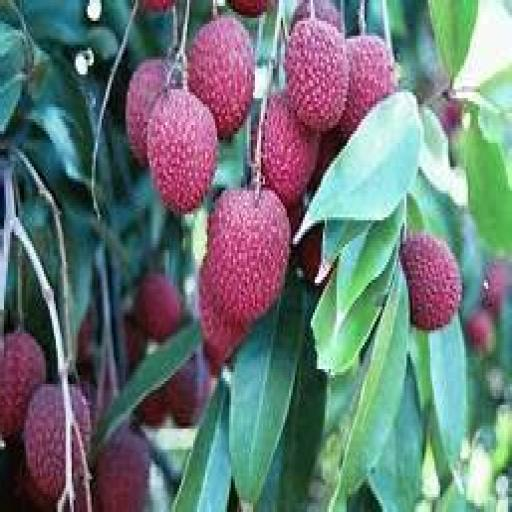lychee: (207, 188, 289, 324), (147, 90, 216, 214), (187, 15, 254, 139), (284, 18, 347, 130), (260, 93, 317, 208), (400, 233, 461, 330), (340, 36, 395, 136), (199, 265, 246, 375), (23, 384, 64, 500), (0, 331, 44, 437), (95, 429, 148, 511), (125, 60, 166, 166), (165, 352, 210, 428), (133, 271, 180, 342), (308, 128, 345, 190), (482, 262, 509, 318), (135, 384, 168, 428), (121, 316, 146, 372), (464, 310, 493, 354), (298, 227, 321, 282), (312, 0, 343, 32), (440, 99, 461, 136), (227, 0, 269, 17), (141, 0, 172, 11)
